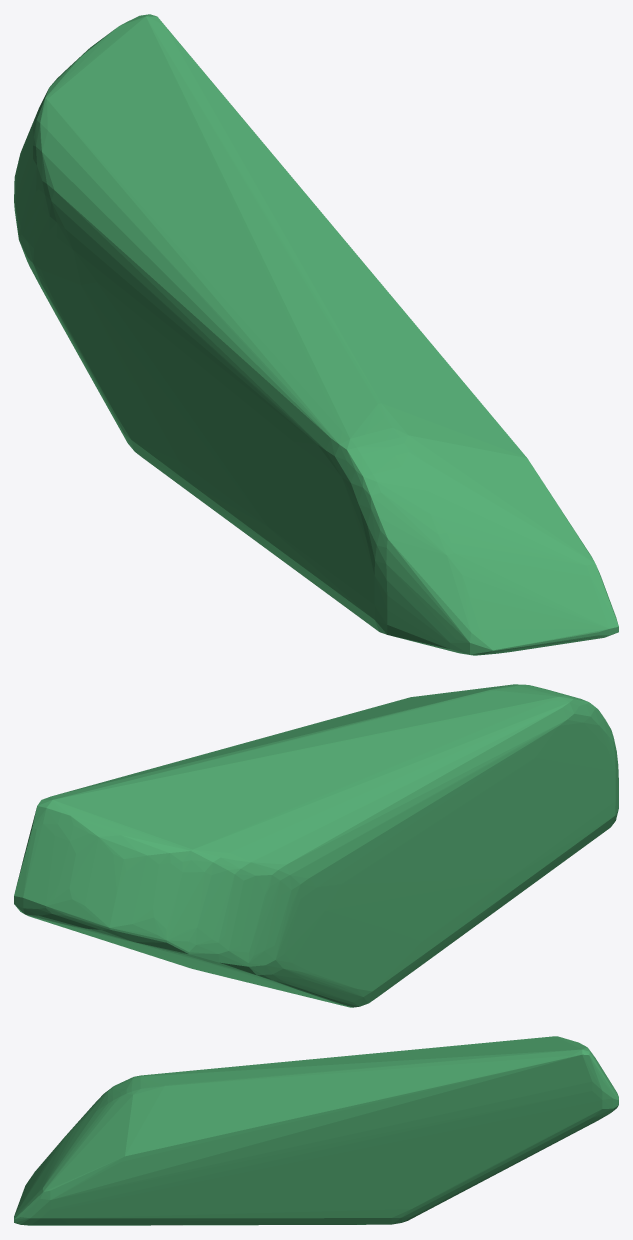
File: right-toe-roll-0_part_3.obj
3 views of the same model, one above another, from view 1: azimuth 30°, elevation 25°; view 2: azimuth 150°, elevation 25°; view 3: azimuth 270°, elevation 25° (orthographic). The views are drawn at different scales.
Size of the model in its own units: 0.0229 by 0.0332 by 0.1033.
